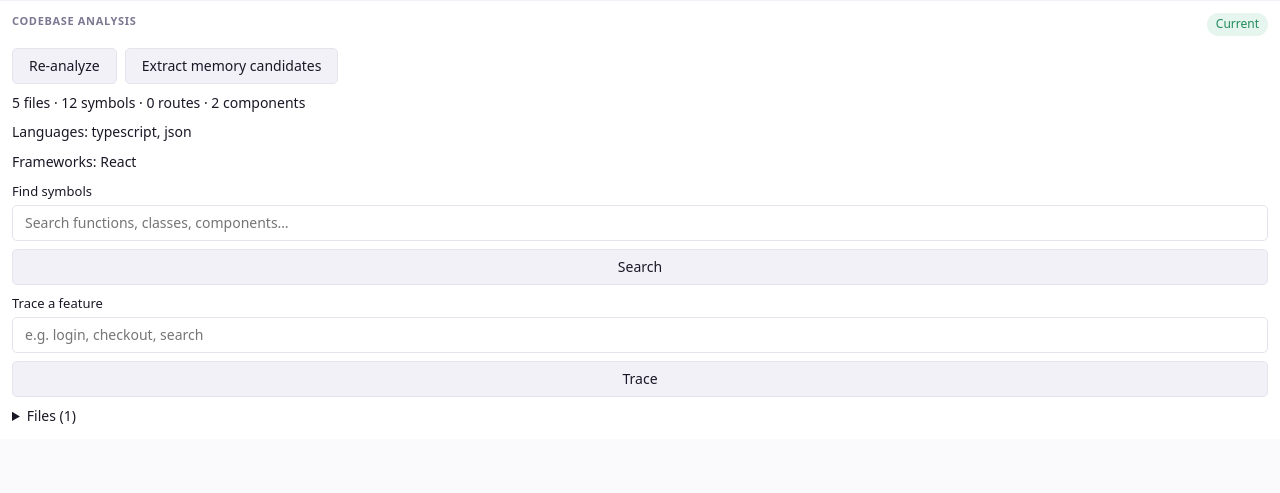
Test: CodebasePanel - search and trace › lists symbol results for a query
Check: the text "Current" is shown, box [1207, 13, 1268, 36]
Type "LoginForm" into the field labelled "Find symbols" at (640, 223), box [25, 212, 1255, 234]
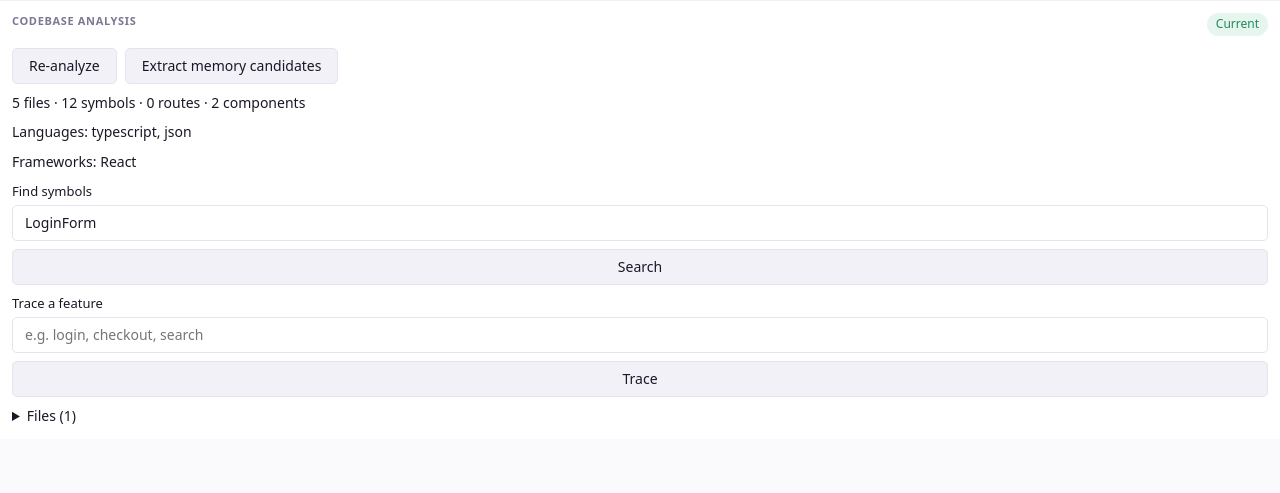
Click the button "Search" at (640, 267), box [12, 249, 1268, 285]
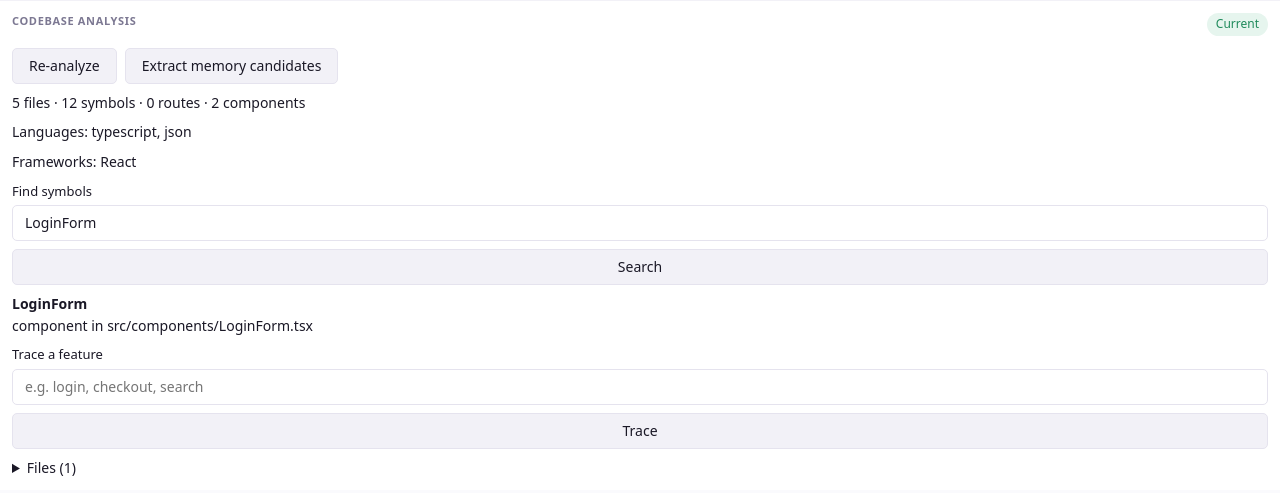
Check: the text "component in src/components/LoginForm.tsx" is shown, box [12, 316, 313, 335]
